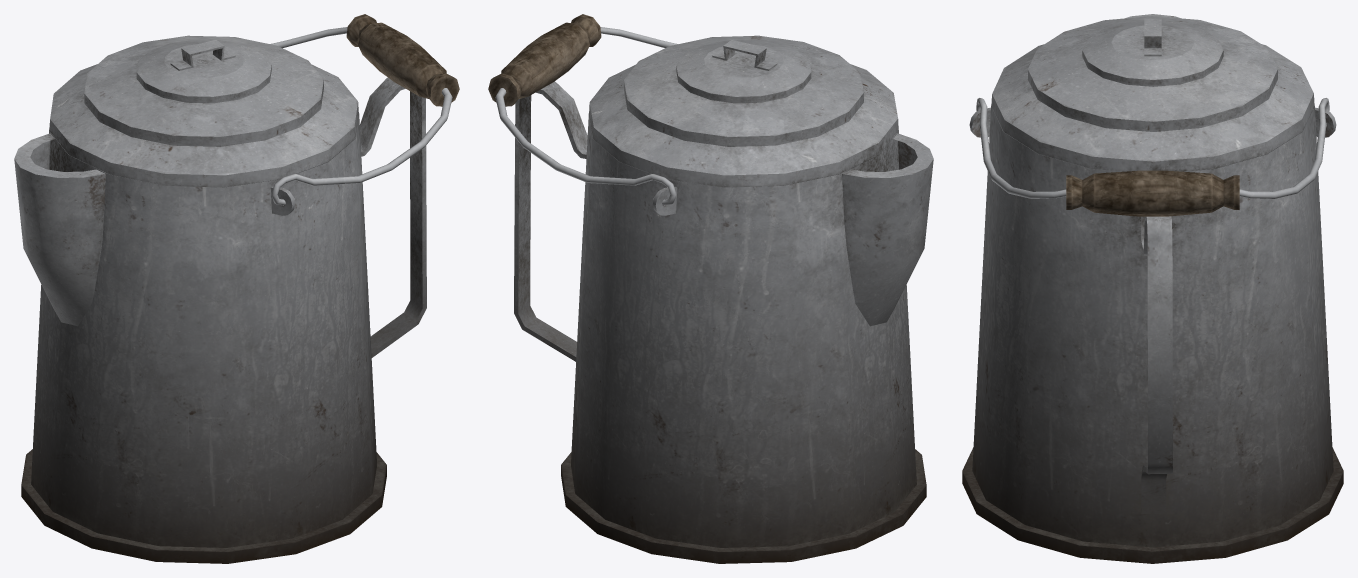
The model's file is teapot.fbx.
The picture shows the model from 3 angles, left to right: view 1: azimuth 30°, elevation 25°; view 2: azimuth 150°, elevation 25°; view 3: azimuth 270°, elevation 25°; orthographic projection. The views are drawn at different scales.
Parts seen in each view (by area): view 1: teapot; view 2: teapot; view 3: teapot.
Part boxes in pixels (bbox=[...]): teapot: bbox=[14, 14, 459, 563]; teapot: bbox=[488, 14, 933, 563]; teapot: bbox=[962, 14, 1343, 563].
Size of the model in its own units: 64.24 by 66.82 by 50.75.
1 material, 1 textured.
